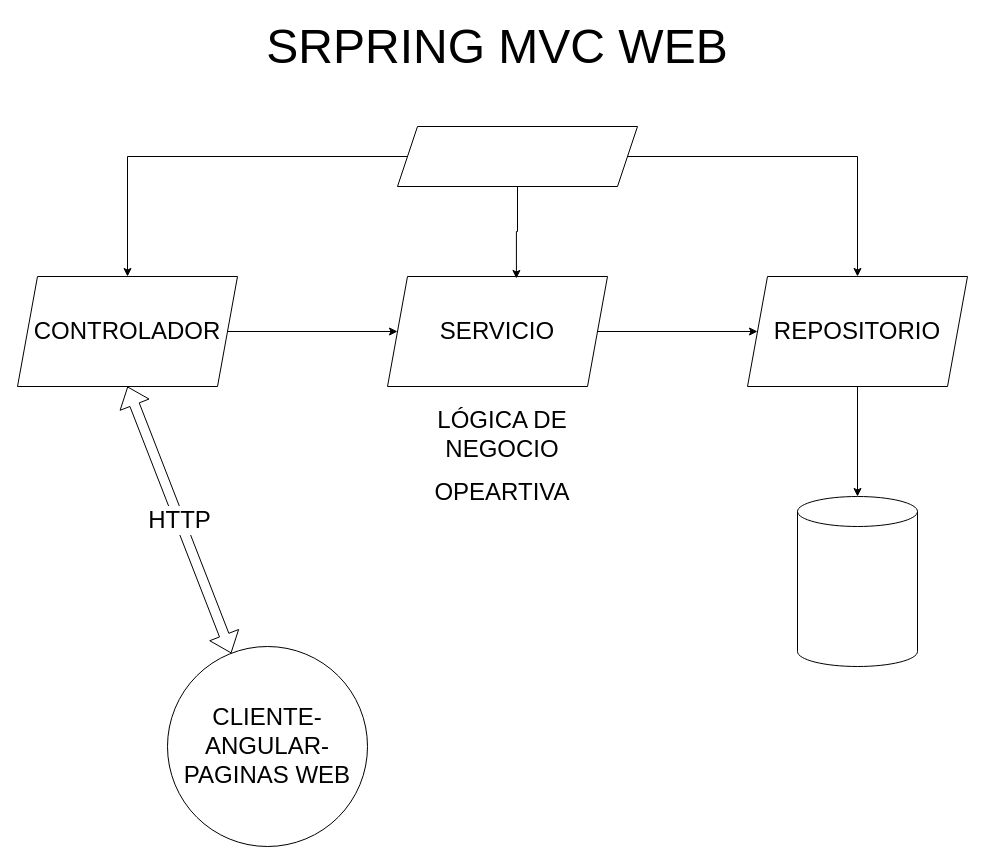
The diagram is 985 pixels wide and 864 high, and some of its shapes have lost their labels. Each missing label, with the centre of its shape:
COMPONENTES: (x=517, y=156)
DBCURSOS: (x=857, y=581)
